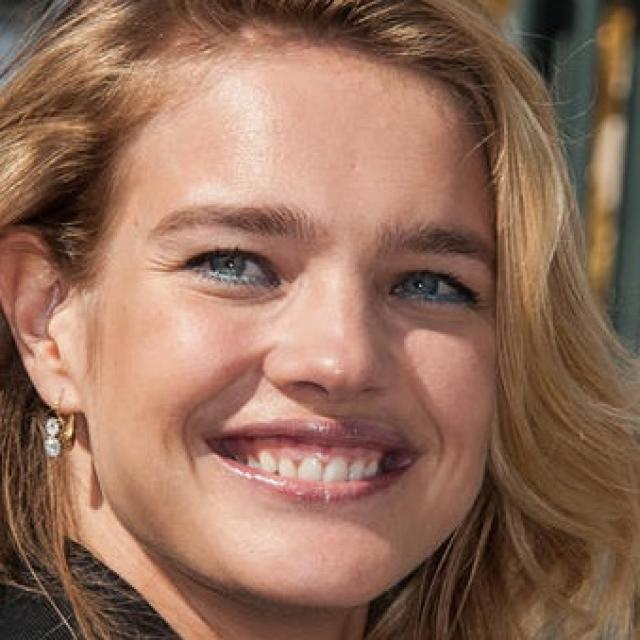Normal: (91, 34, 499, 609)
